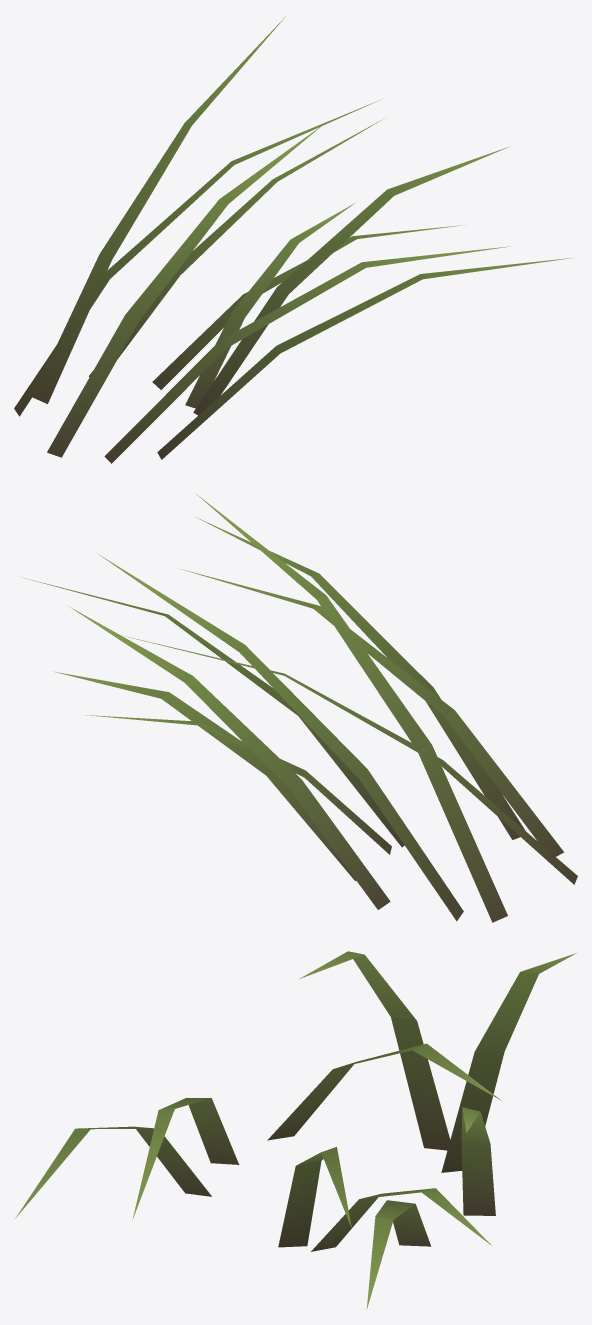
Rendered from grass_path_edge_01.glb.
3 views of the same model, one above another, from view 1: azimuth 30°, elevation 25°; view 2: azimuth 150°, elevation 25°; view 3: azimuth 270°, elevation 25° (orthographic). The views are drawn at different scales.
Visible parts, largest first — view 1: grass_path_edge_01_mesh; view 2: grass_path_edge_01_mesh; view 3: grass_path_edge_01_mesh.
Part boxes in pixels (x1,y1,x2,y2): grass_path_edge_01_mesh: [14, 16, 573, 463]; grass_path_edge_01_mesh: [21, 494, 577, 922]; grass_path_edge_01_mesh: [15, 951, 576, 1309].
Bounding box in the file's own units: 0.4114 × 0.2325 × 0.2771.
